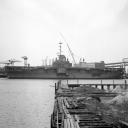Portanaves: (4, 41, 127, 81)
